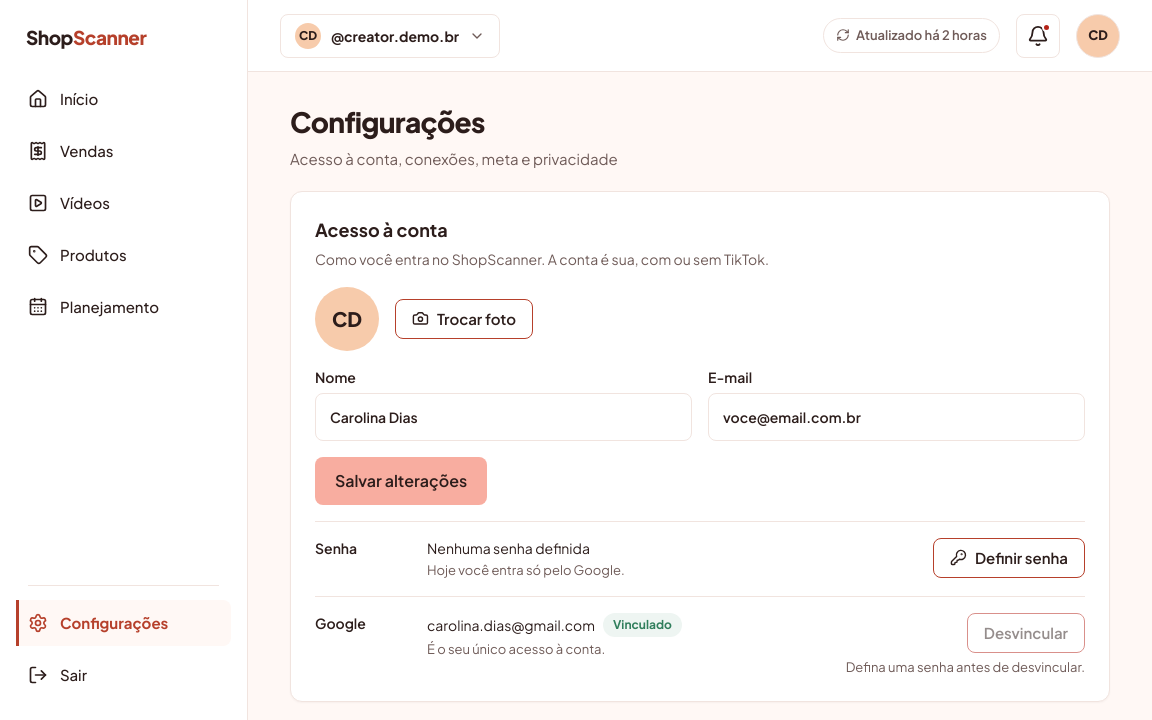
Test: /configuracoes › acesso: só com Google, desvincular espera uma senha
Expected: the button "Desvincular" is disabled, [967,612,1085,652]
Expected: the text "Defina uma senha antes de desvincular." is shown, [846,656,1085,677]
Click the button "Definir senha" at point(1009, 558), box [933,538,1085,578]
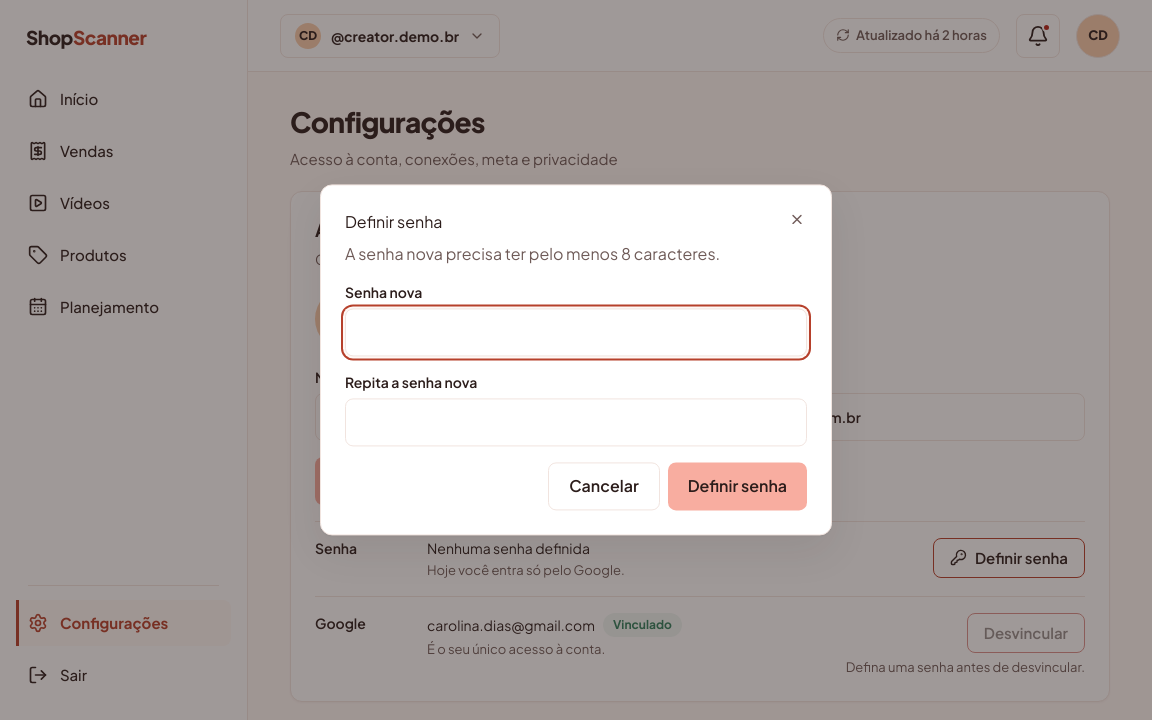
Type "NovaSenha1!" into the password field labelled "Senha nova" at point(576, 333), box [345,309,807,357]
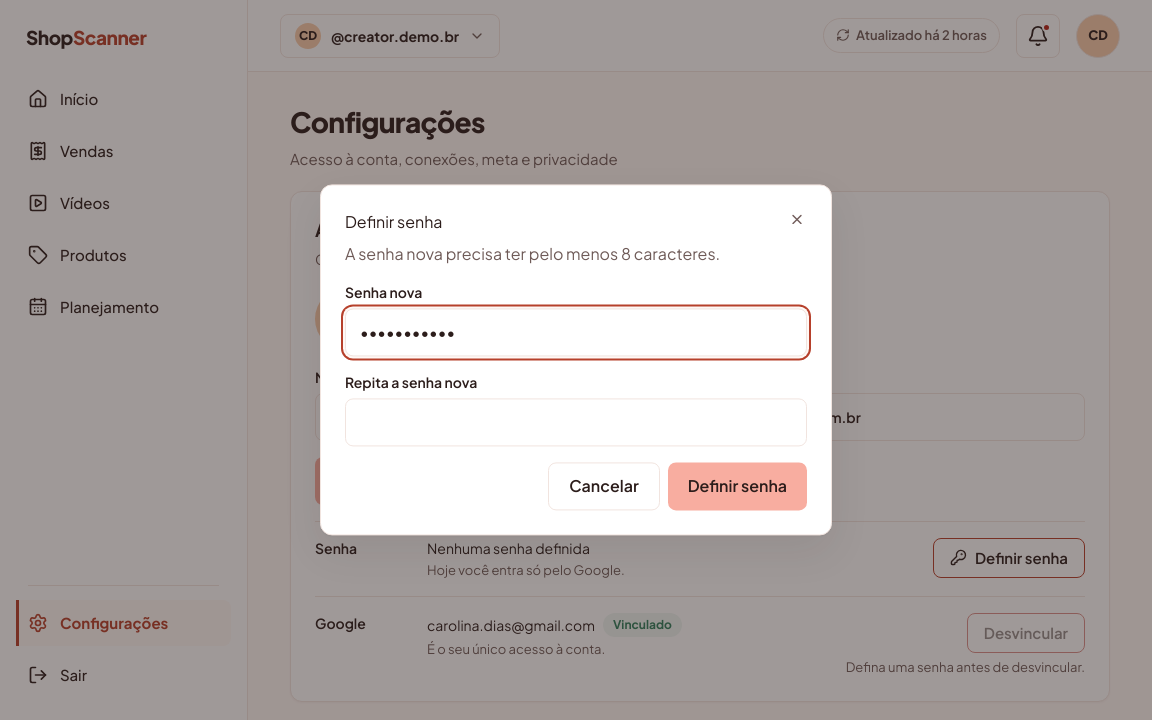
Type "NovaSenha1!" into the password field labelled "Repita a senha nova" at point(576, 423), box [345,399,807,447]
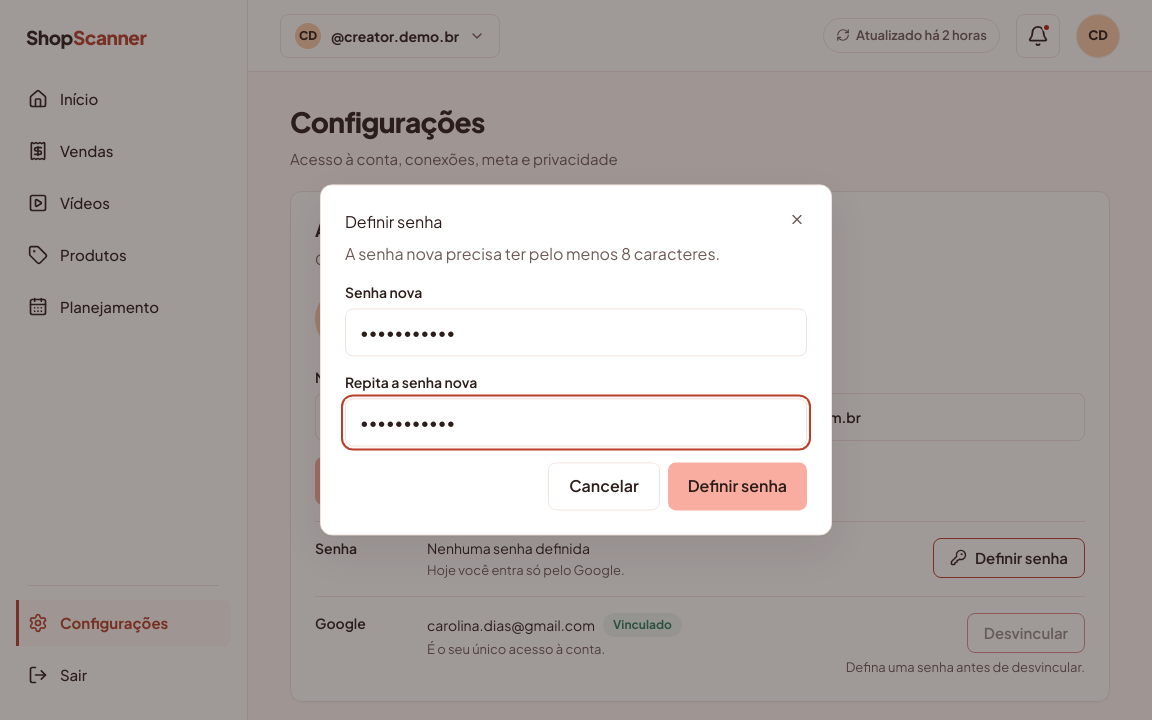
Click the button "Definir senha" at point(737, 487), box [668,463,807,511]
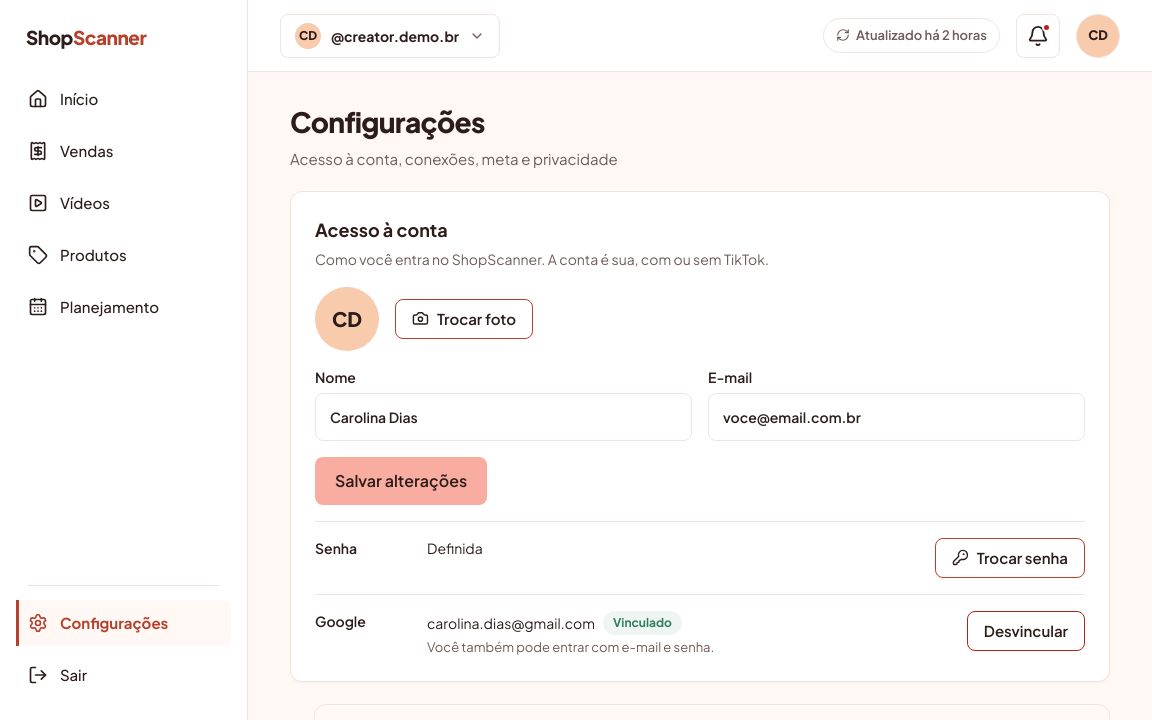
Expected: the button "Desvincular" is enabled
Click the button "Desvincular" at point(1026, 630), box [967,610,1085,650]
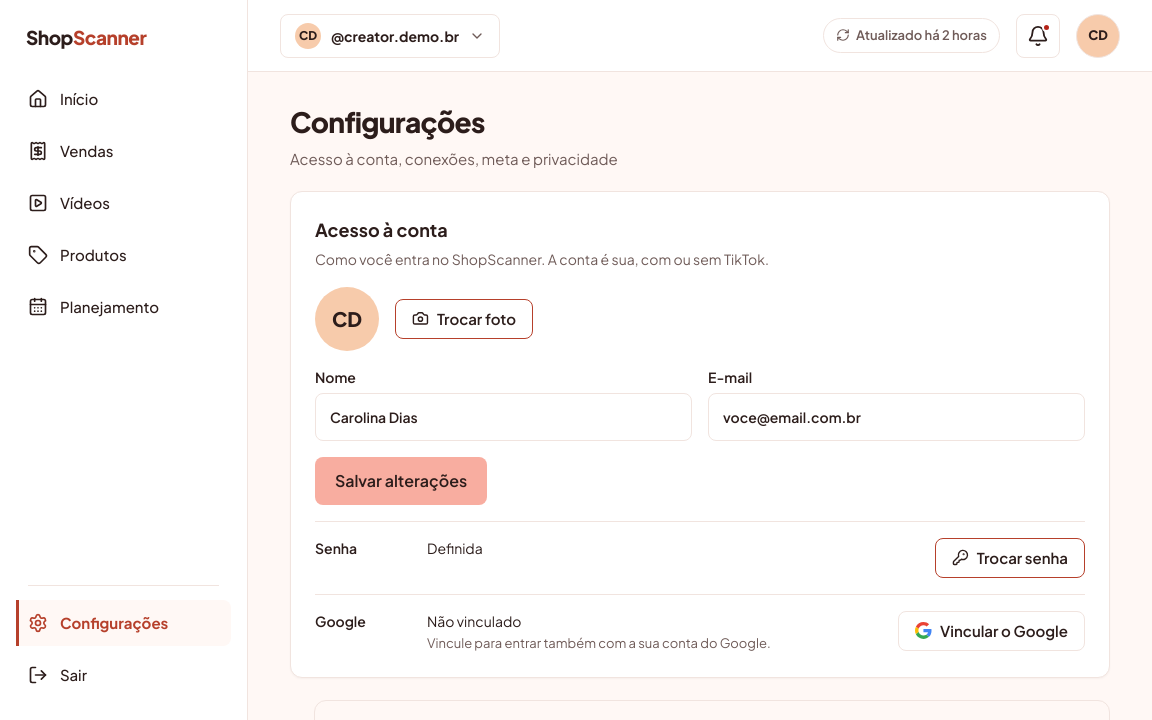
Expected: the text "Não vinculado" is shown, [427,612,522,630]
